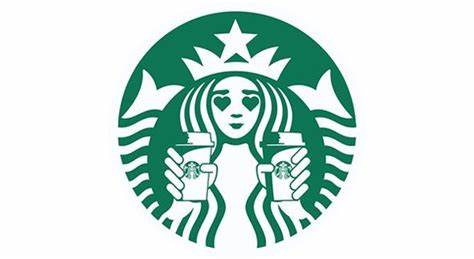starbucks Fake: (110, 8, 365, 253)
